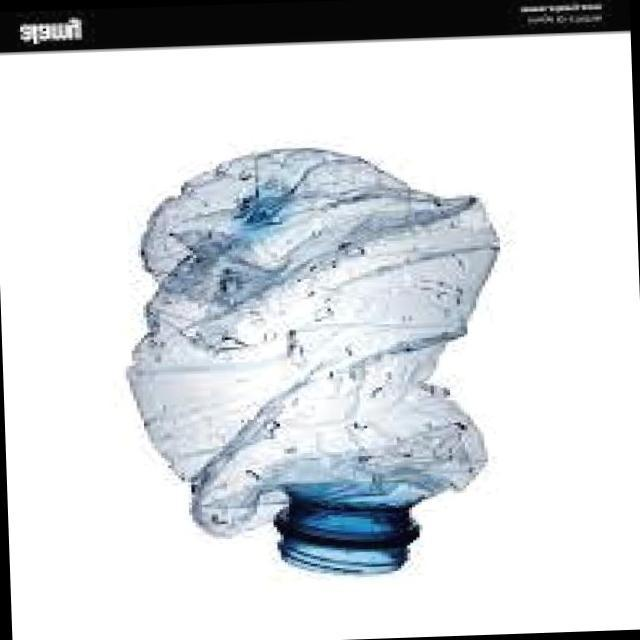defected: (104, 141, 522, 598)
